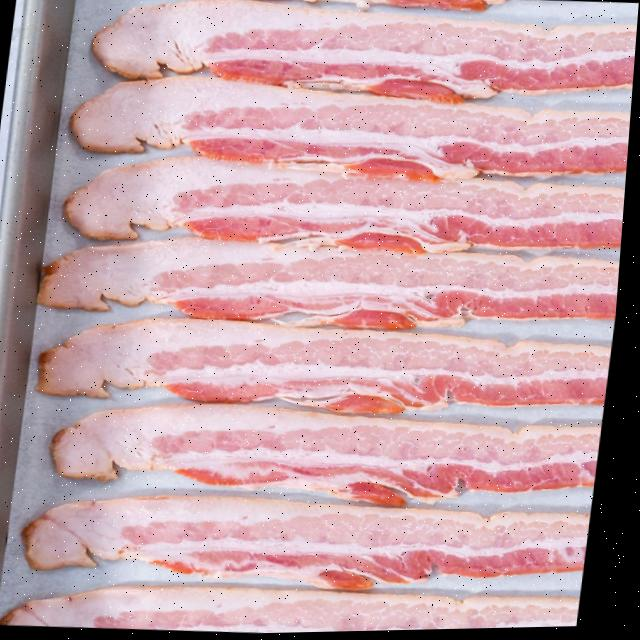Bacon: (72, 76, 633, 180), (58, 404, 607, 508), (93, 0, 638, 104), (43, 318, 616, 415), (68, 156, 628, 254), (43, 238, 624, 331), (30, 496, 597, 590), (9, 586, 588, 634)
